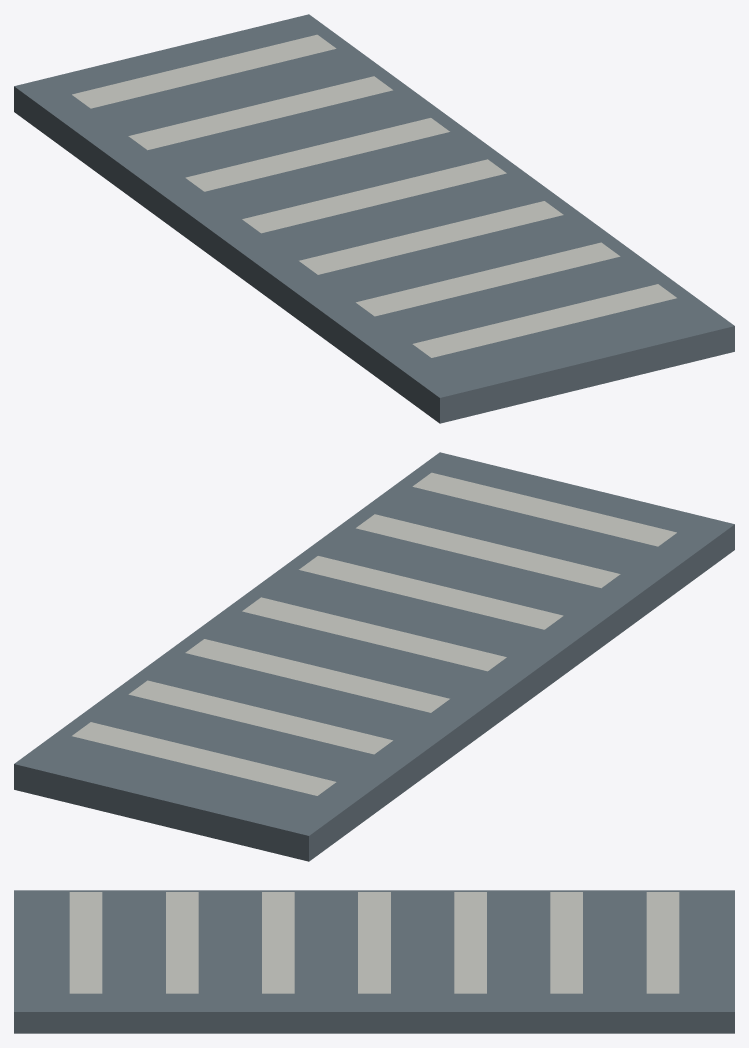
Rendered from q01-drain.glb.
The picture shows the model from 3 angles, top to bottom: view 1: azimuth 30°, elevation 25°; view 2: azimuth 150°, elevation 25°; view 3: azimuth 270°, elevation 25°; orthographic projection. The views are drawn at different scales.
Size of the model in its own units: 0.3 by 0.0345 by 0.75.
